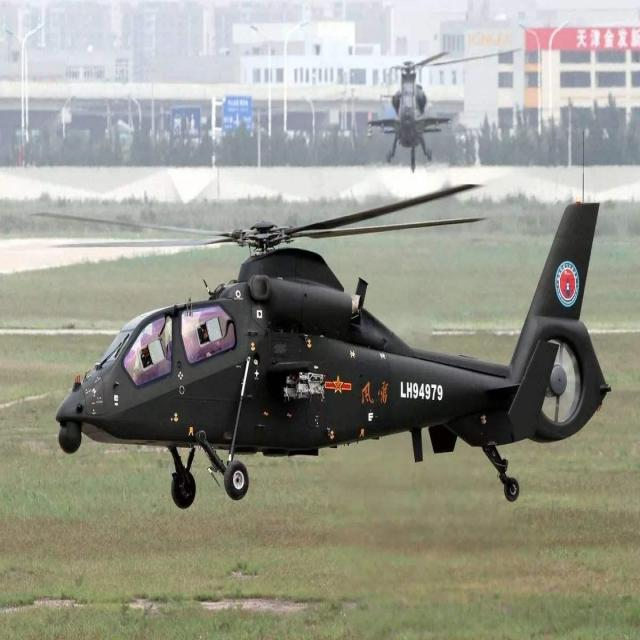MIL_HELO: (31, 177, 625, 526), (333, 36, 504, 170)
